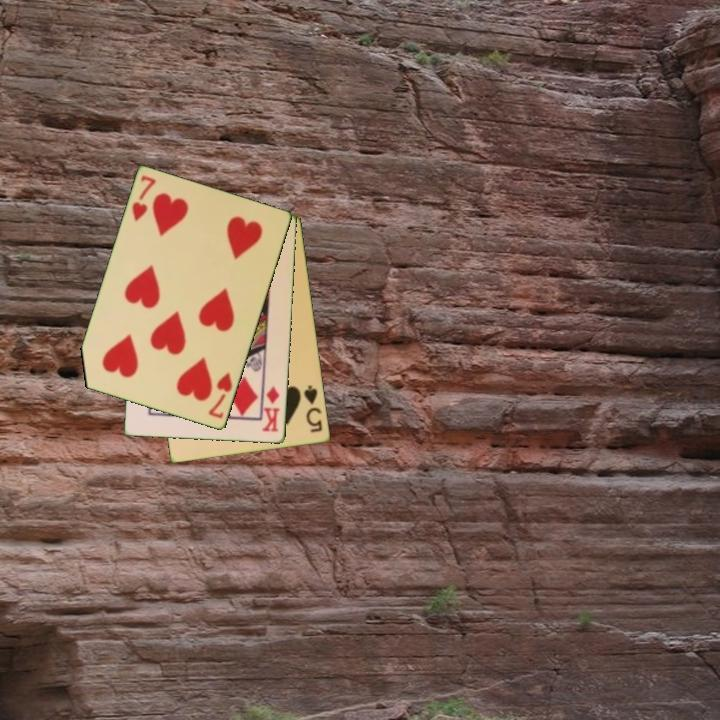5s: (301, 382, 325, 435)
7h: (205, 368, 236, 422), (129, 172, 159, 225)
Kd: (259, 383, 283, 435)
